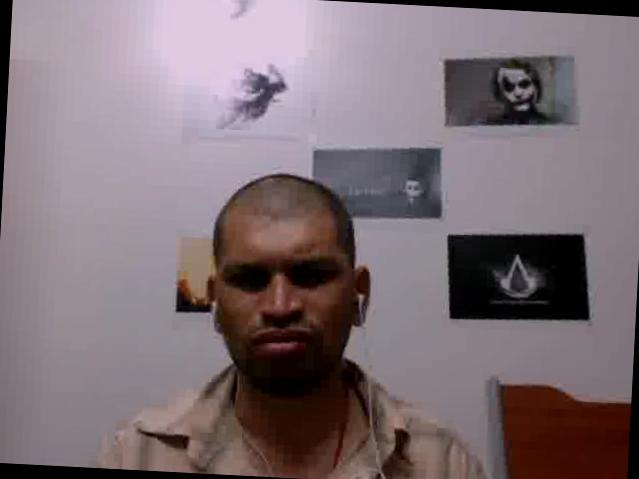bingung: (210, 202, 349, 382)
